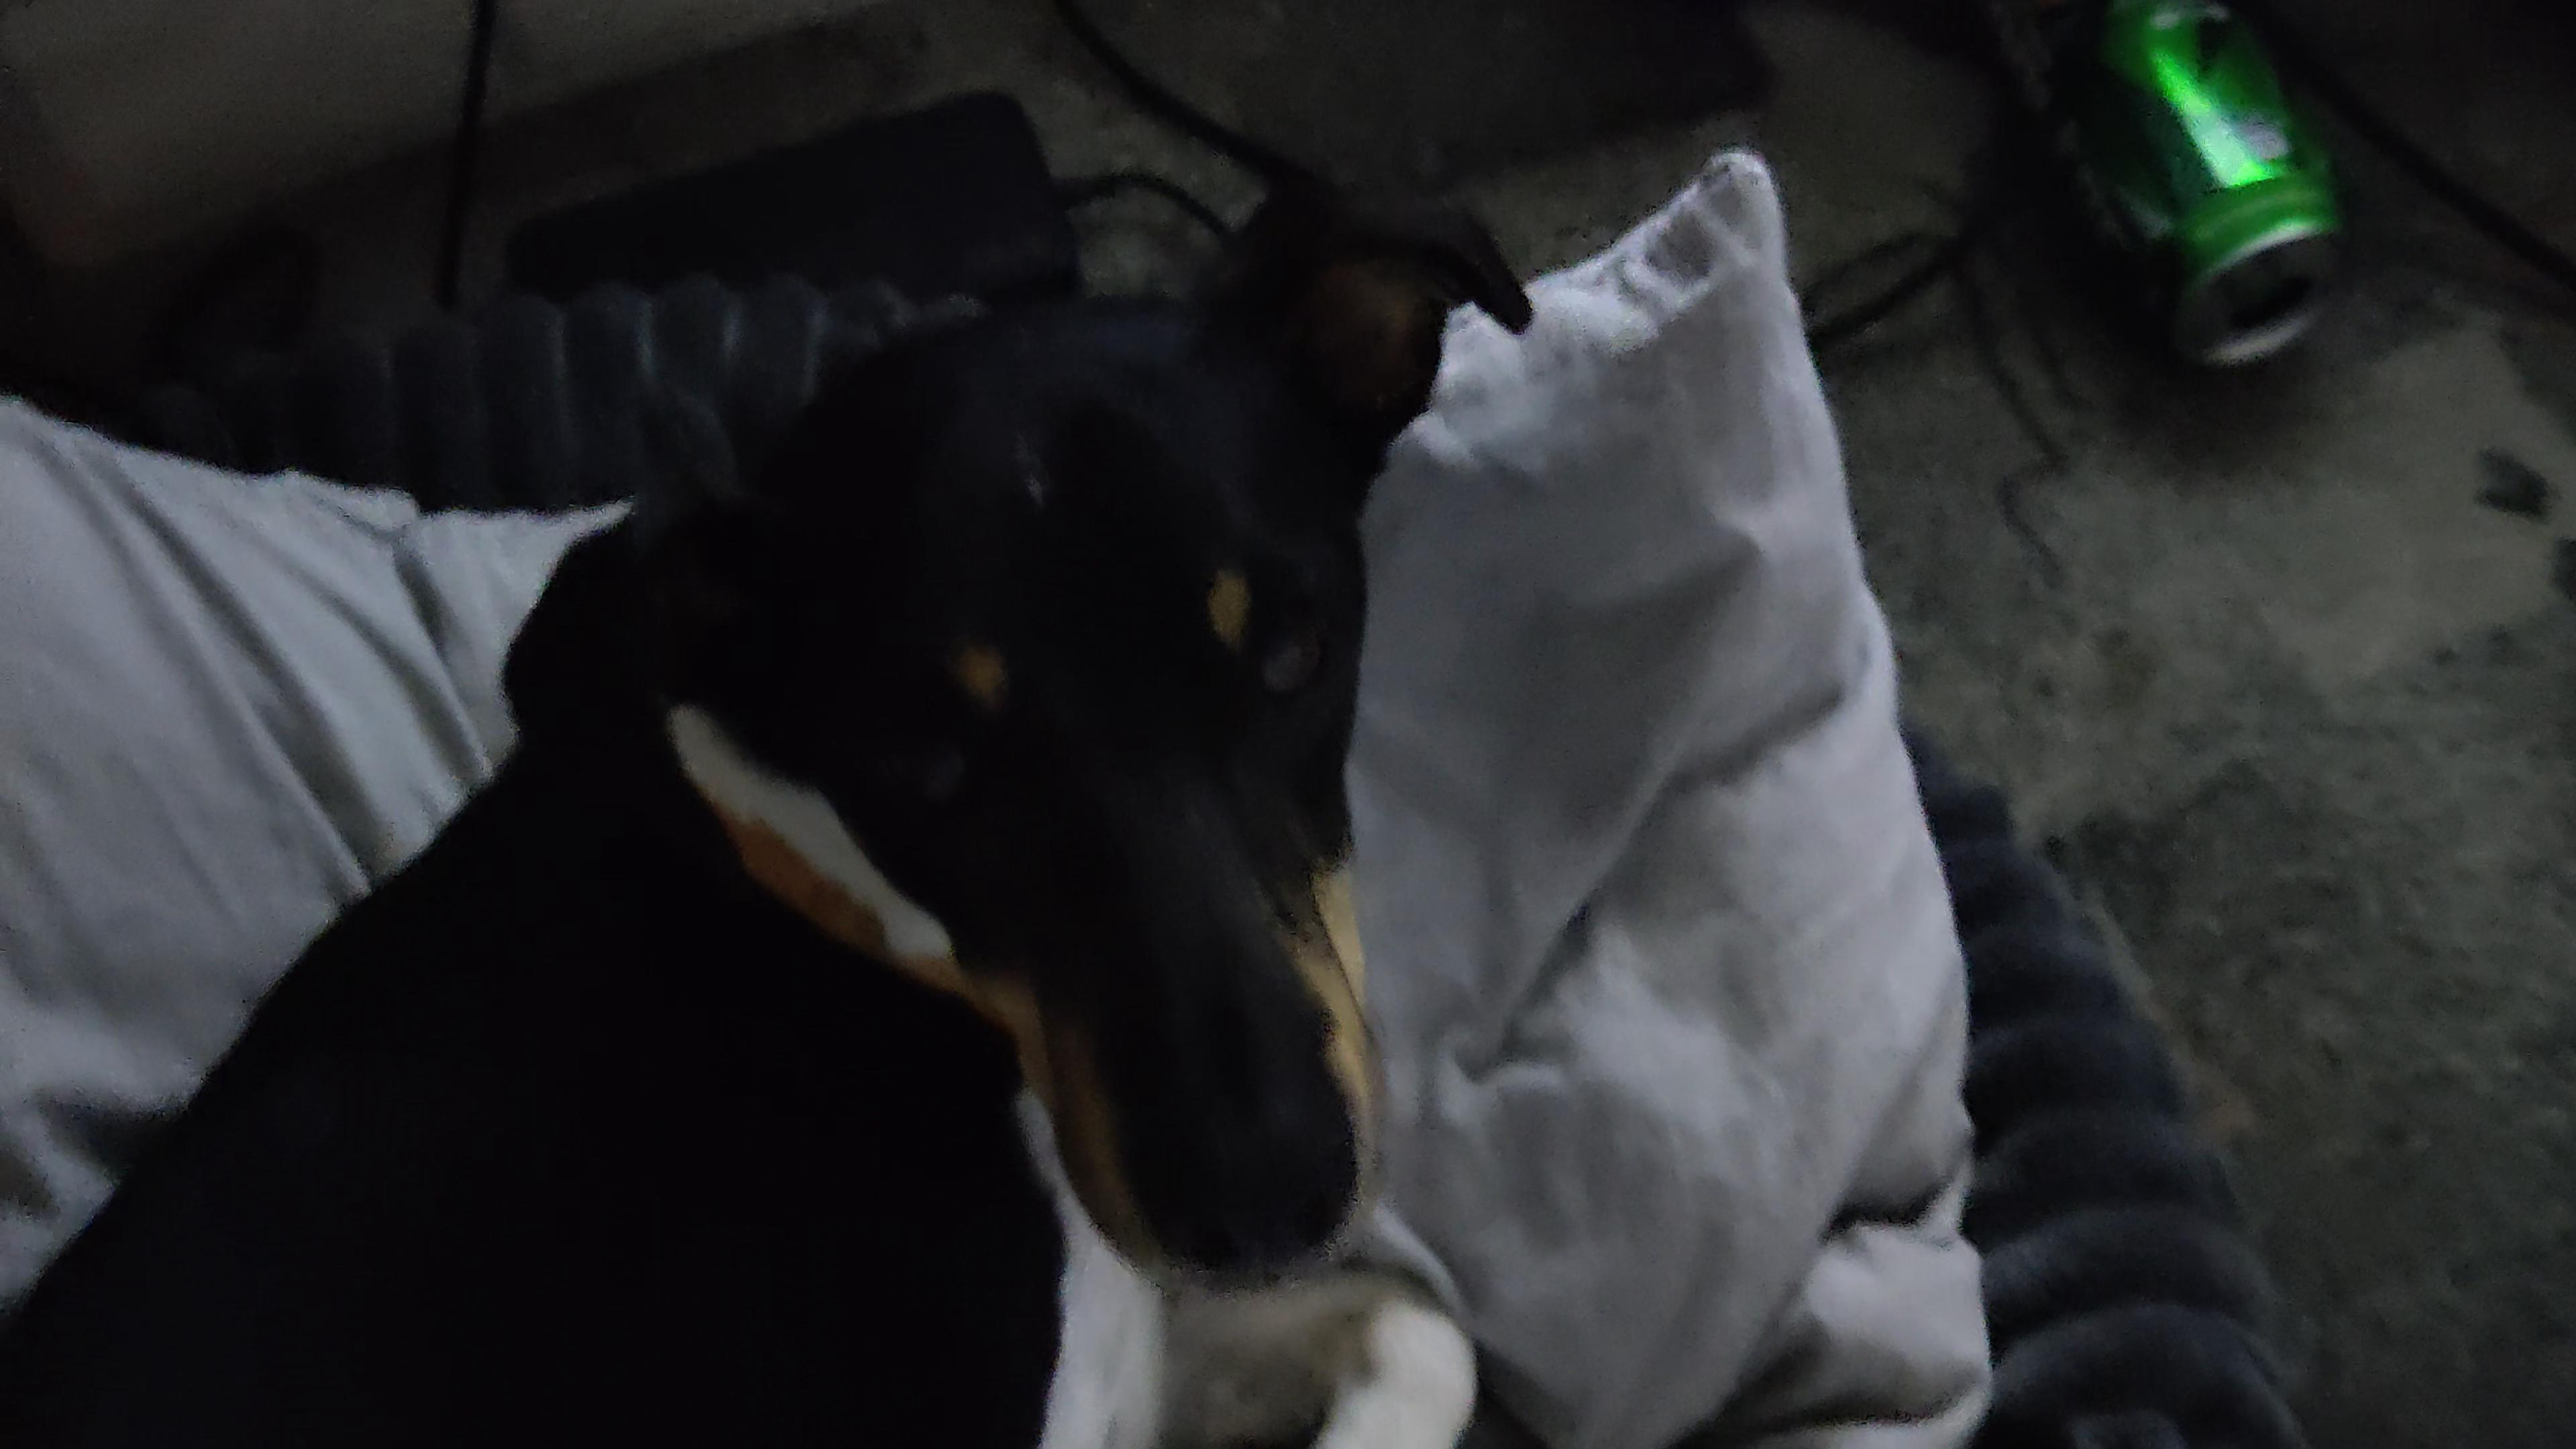Dog: (0, 145, 1566, 1449)
